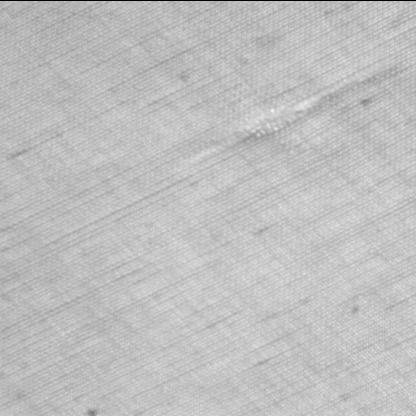thread error: (228, 90, 338, 146)
